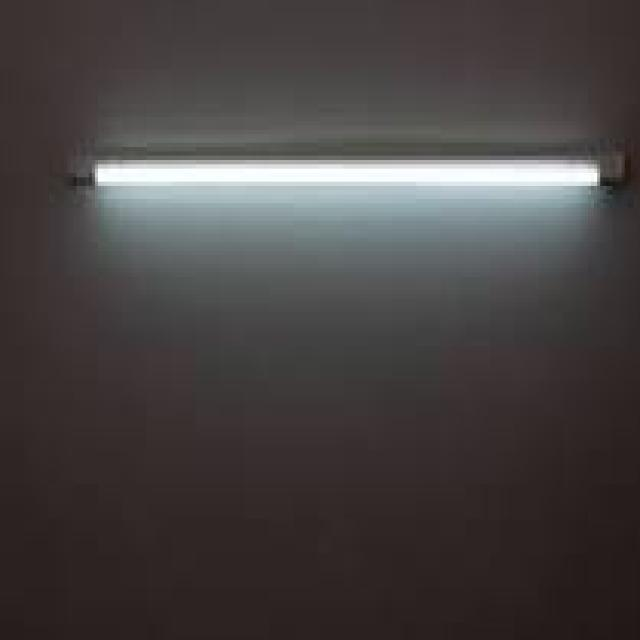tubelight_on: (66, 149, 630, 198)
